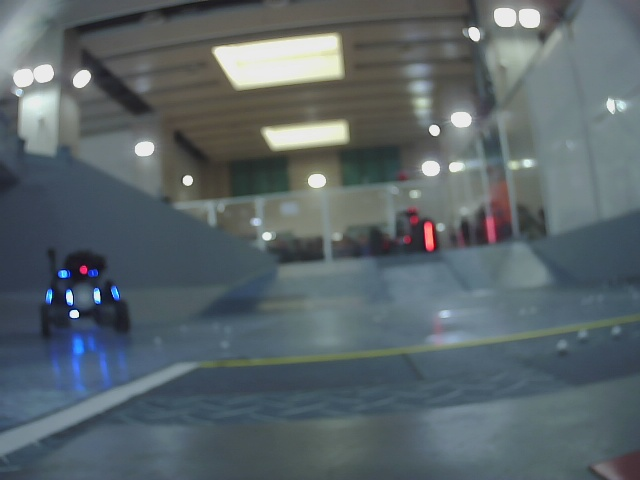lamp: (63, 287, 76, 308), (92, 287, 101, 304)
pair: (66, 288, 100, 307)
